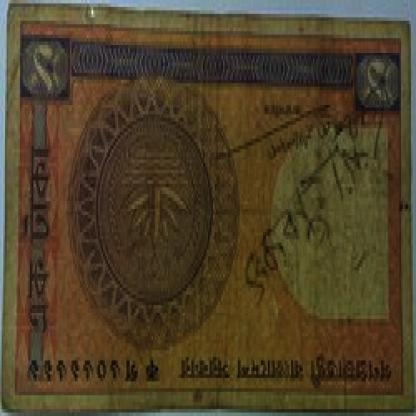One Taka: (28, 138, 52, 340), (22, 38, 72, 101), (358, 56, 399, 108)
